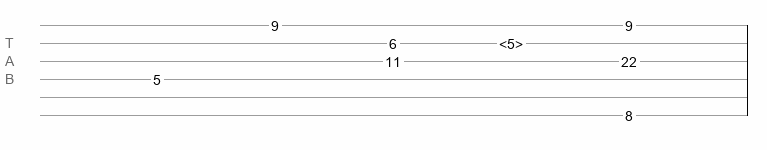11: (385, 54, 401, 64)
22: (621, 54, 637, 64)
5: (153, 72, 161, 82)
6: (389, 36, 397, 46)
8: (625, 108, 633, 118)
9: (271, 18, 279, 28), (625, 18, 633, 28)
harmonic: (499, 36, 523, 46)
